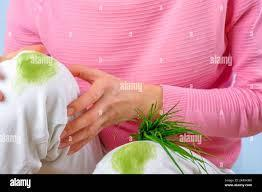earth: (110, 143, 153, 174), (17, 56, 55, 83)
